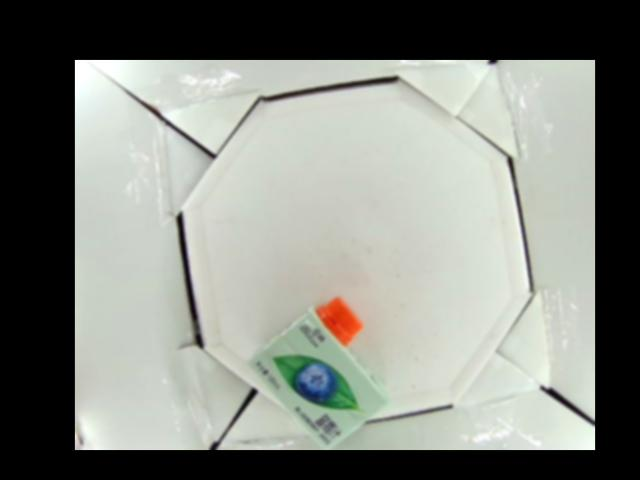Bottle: (253, 295, 389, 450)
